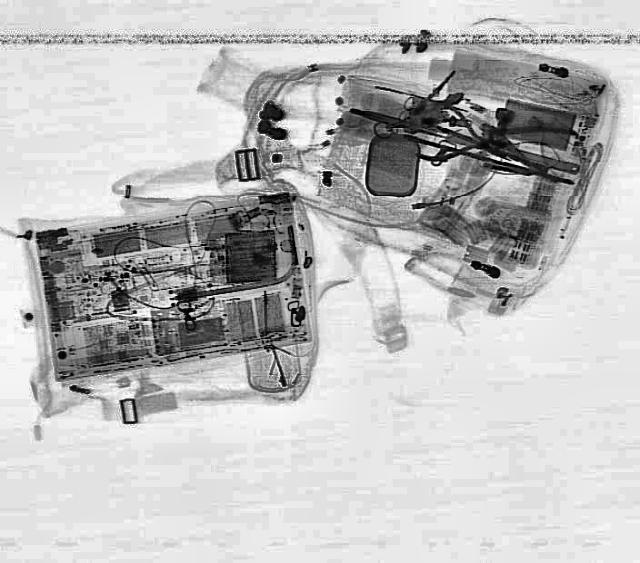Pliers: (468, 104, 594, 186), (404, 98, 516, 178)
